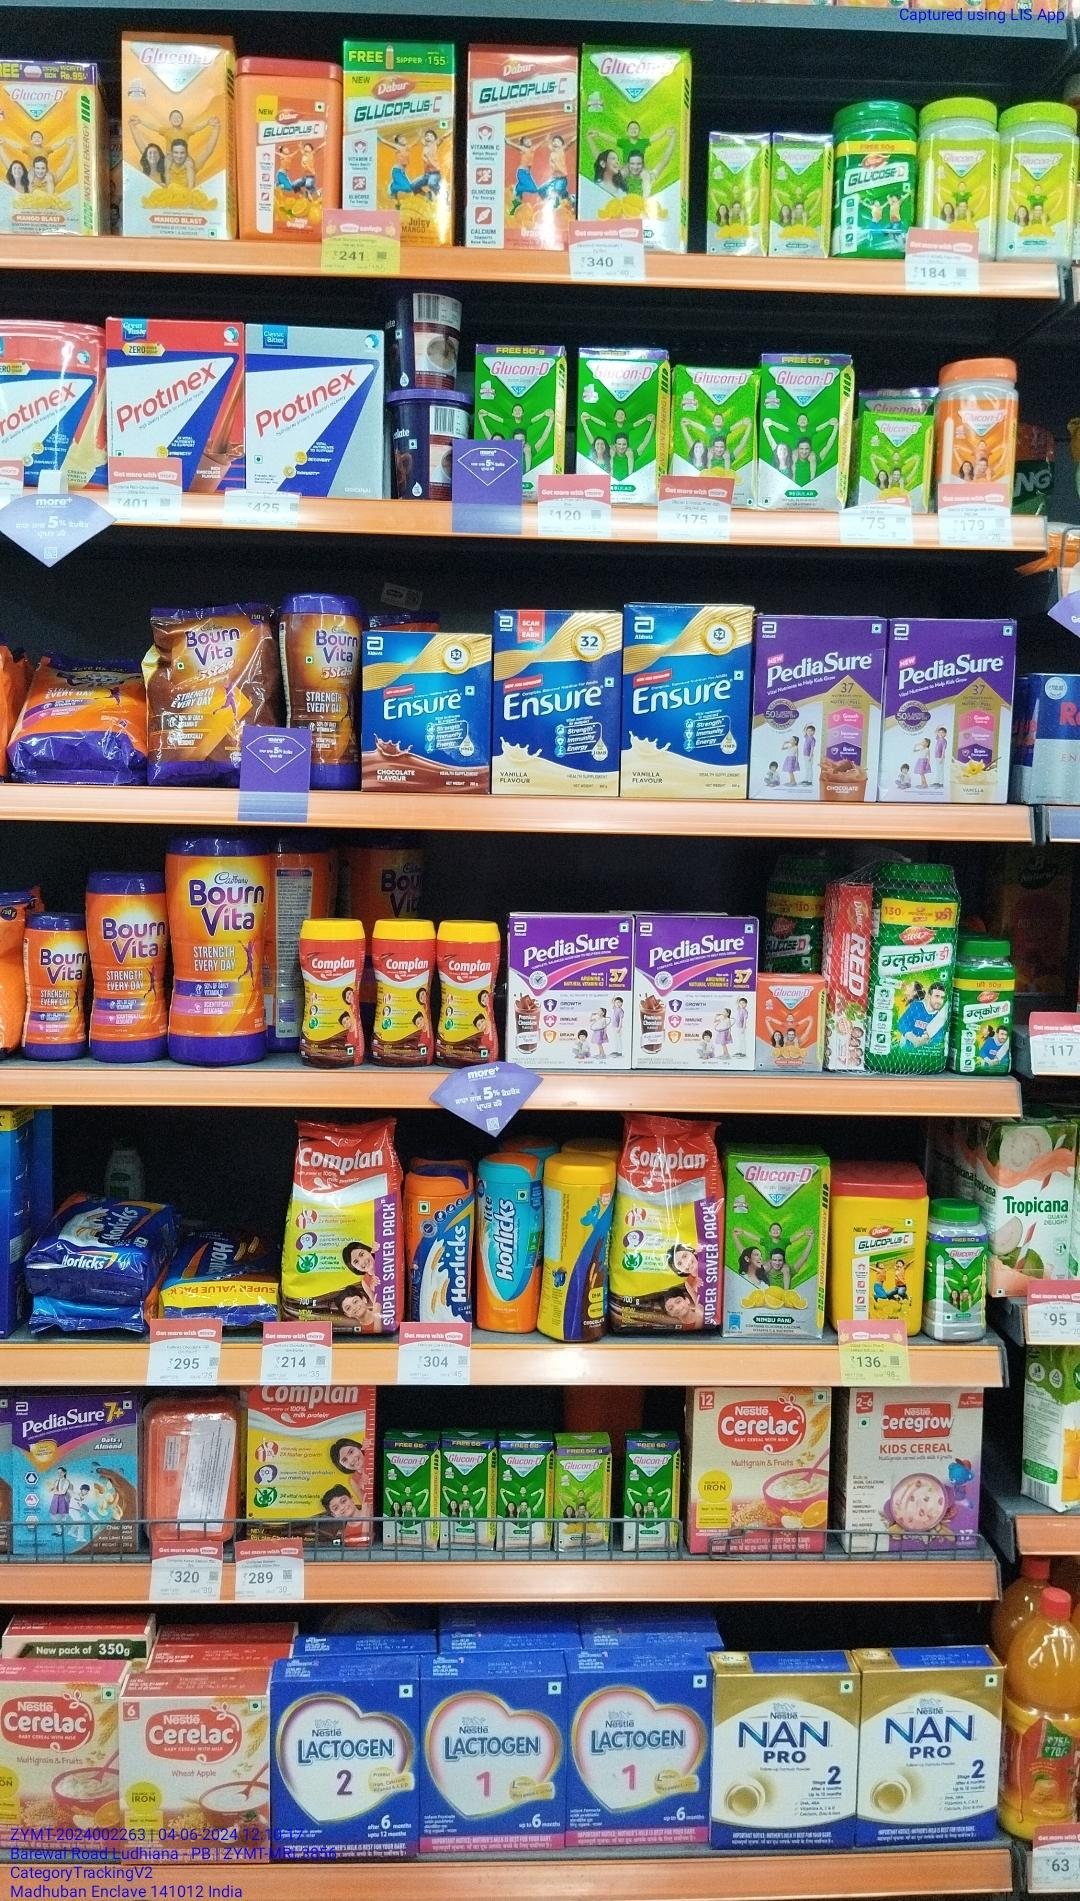BOURN_VITA_FIVE_STAR_MAGIC_500_G_JAR: (283, 588, 357, 790)
BOURN_VITA_FIVE_STAR_MAGIC_750_G_POUCH: (151, 601, 274, 787)
COMPLAN_CHOCOLATE_200_GMS_JAR: (299, 914, 362, 1069), (436, 922, 499, 1071), (370, 917, 430, 1071)
ENSURE_VANILLA_400_G_PACK: (624, 599, 750, 800), (496, 612, 618, 798)
HORLICKS_LITE_REGULAR_MALT_500_GM_JAR: (481, 1153, 541, 1336)
PEDIASURE_7_PLUS_CHOCOLATE_400_G_PACK: (13, 1394, 137, 1551)
PEDIASURE_CHOCOLATE_500_G_PACK: (756, 620, 876, 802)
PEDIASURE_VANILLA_500_G_PACK: (885, 618, 1011, 802)
PROTINEX_VANILLA_400_G_JAR: (0, 317, 101, 487)
